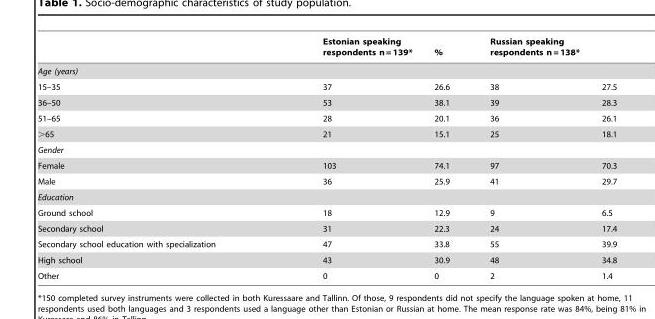table: (36, 36, 616, 280)
table column: (36, 36, 268, 280), (268, 36, 422, 280), (469, 36, 589, 280), (422, 36, 469, 280), (589, 36, 616, 280)
table column header: (36, 36, 616, 61)
table projected row header: (36, 61, 616, 78), (36, 141, 616, 157), (36, 189, 616, 204)
table row: (36, 36, 616, 61), (36, 61, 616, 78), (36, 78, 616, 94), (36, 94, 616, 110), (36, 125, 616, 141), (36, 141, 616, 157), (36, 157, 616, 173), (36, 173, 616, 189), (36, 204, 616, 220), (36, 220, 616, 236), (36, 251, 616, 267), (36, 110, 616, 125), (36, 189, 616, 204), (36, 236, 616, 251), (36, 267, 616, 280)
